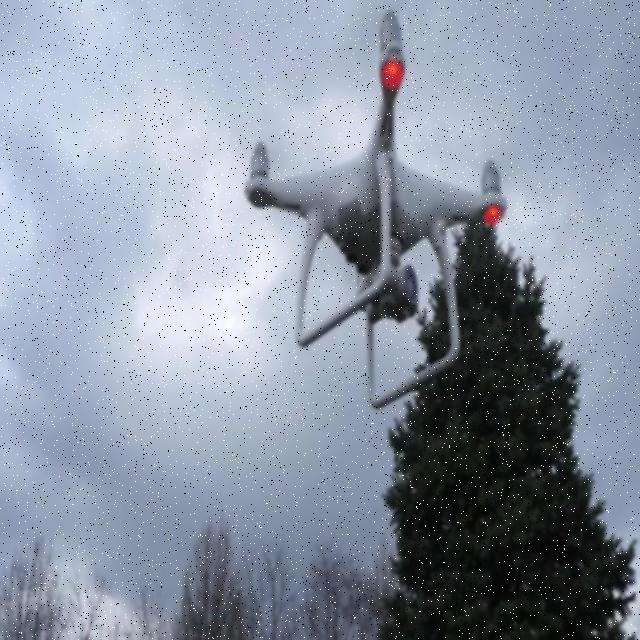UAV: (243, 8, 508, 410)
